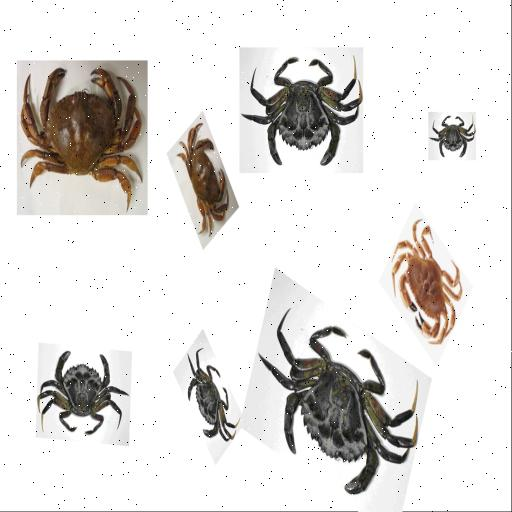green crab: (255, 313, 418, 498), (240, 51, 362, 174), (36, 340, 137, 451), (178, 333, 244, 453), (428, 109, 477, 160)
joe crab: (387, 210, 478, 352)
rock crab: (18, 60, 144, 214), (178, 112, 234, 246)
